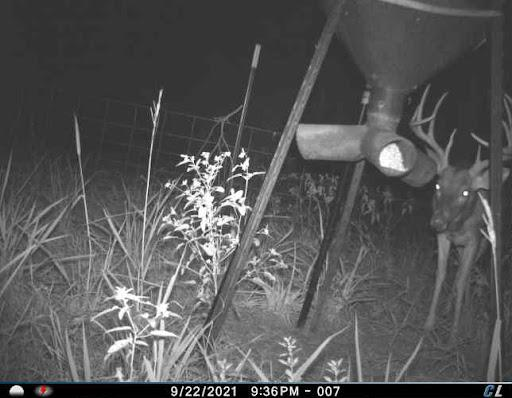Deer: (410, 79, 512, 346)
